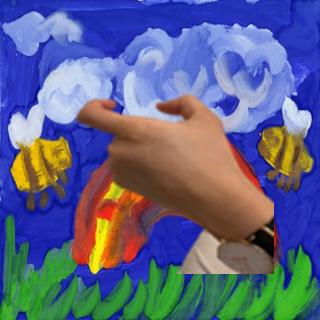HATE: (74, 88, 254, 227)
